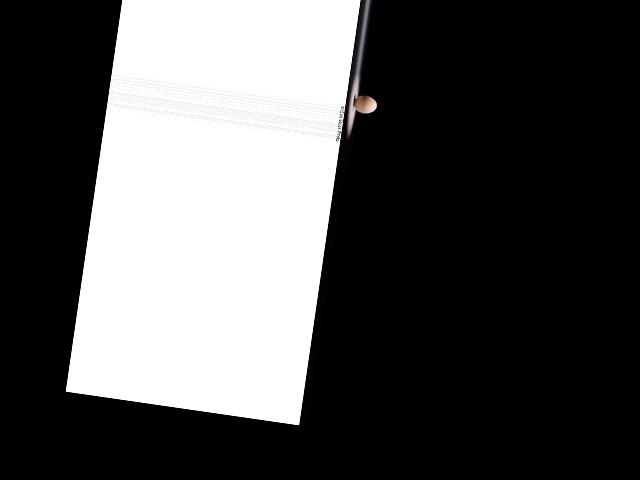egg: (352, 94, 377, 115)
